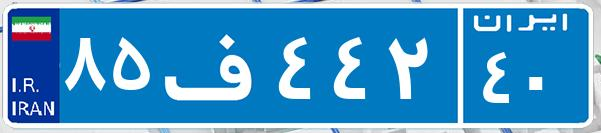0: (525, 38, 570, 115)
2: (385, 28, 445, 110)
4: (273, 28, 330, 110), (330, 28, 385, 110), (475, 38, 525, 113)
5: (110, 28, 158, 105)
8: (57, 26, 110, 107)
ف: (158, 15, 273, 115)
